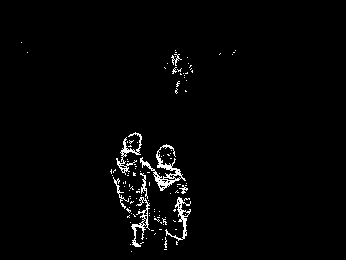person: (146, 142, 192, 257), (110, 129, 150, 255)
